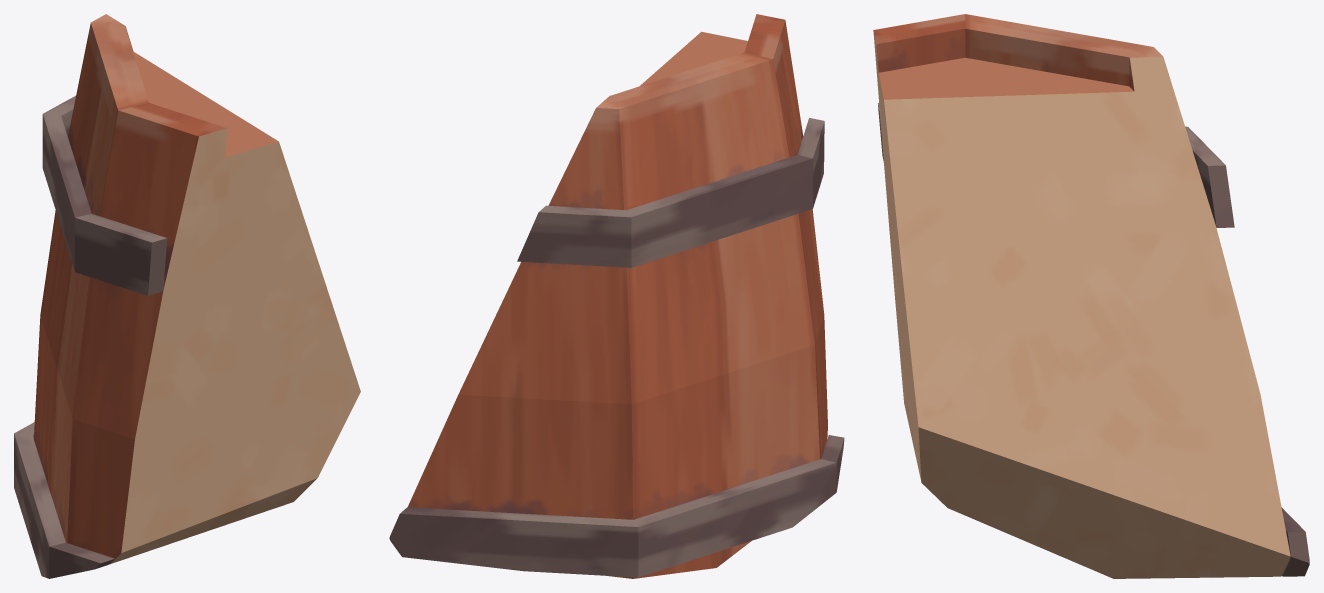
Rendered from barrel_s01.fbx.
3 renders of one model, left to right at view 1: azimuth 30°, elevation 25°; view 2: azimuth 150°, elevation 25°; view 3: azimuth 270°, elevation 25°, orthographic. The views are drawn at different scales.
Visible parts, largest first — view 1: barrel_s01; view 2: barrel_s01; view 3: barrel_s01.
Boxes of the visible parts, x1,y1,x2,y2 form: barrel_s01: (14, 14, 360, 578); barrel_s01: (389, 14, 844, 578); barrel_s01: (873, 14, 1309, 578).
Size of the model in its own units: 1.3 by 2.02 by 1.63.
